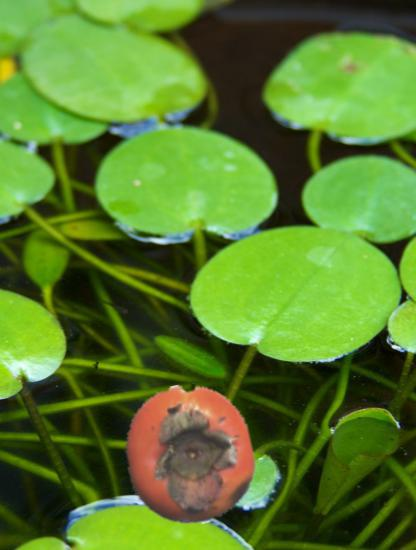Kaki: (119, 384, 260, 525)
